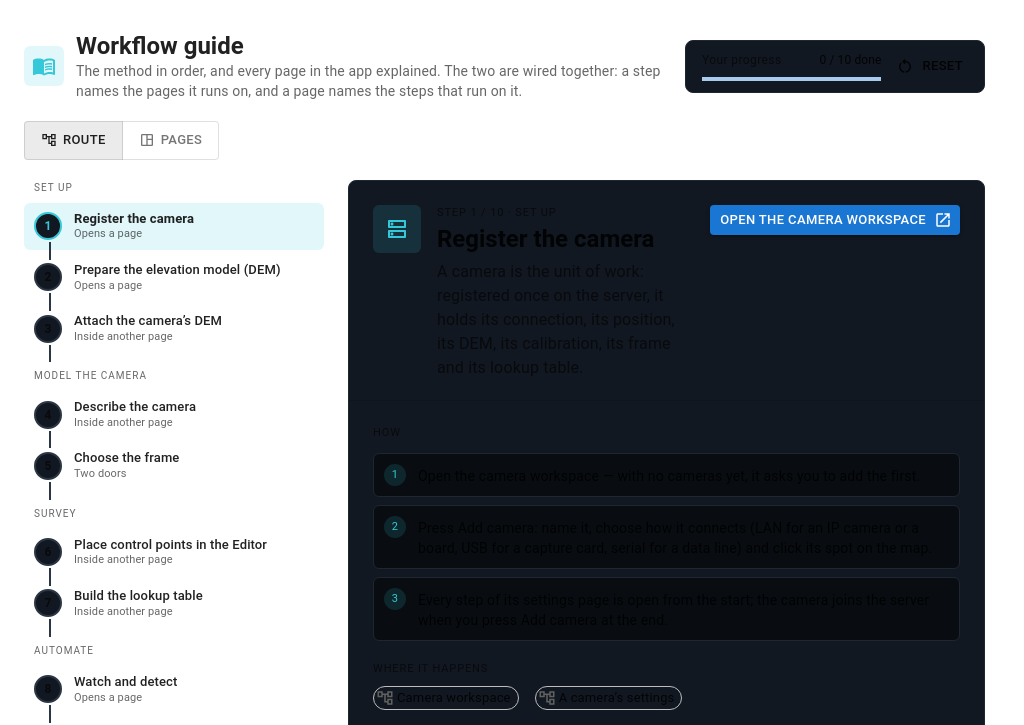
Test: the Pages view — what every page is responsible for › ★ a page with no address of its own says how to reach it instead of faking a door
Click the button "Pages": (170, 140) left=122, top=121, right=219, bottom=160
(page scrolled)
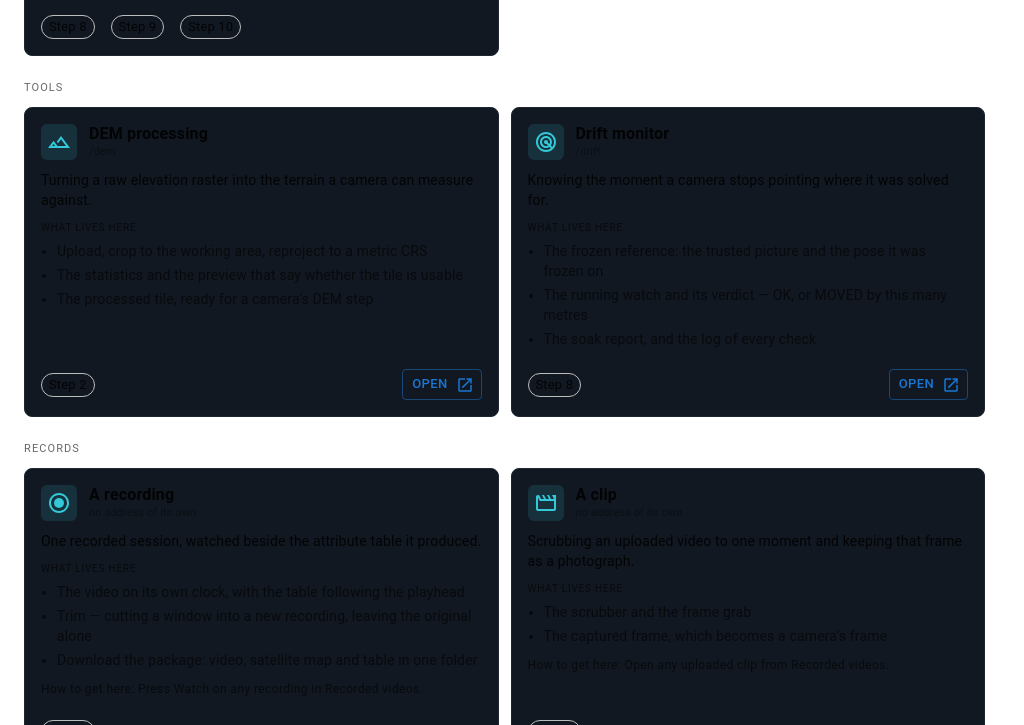
Check: the button "Open" below "DEM processing" is shown, box left=402, top=369, right=482, bottom=400
